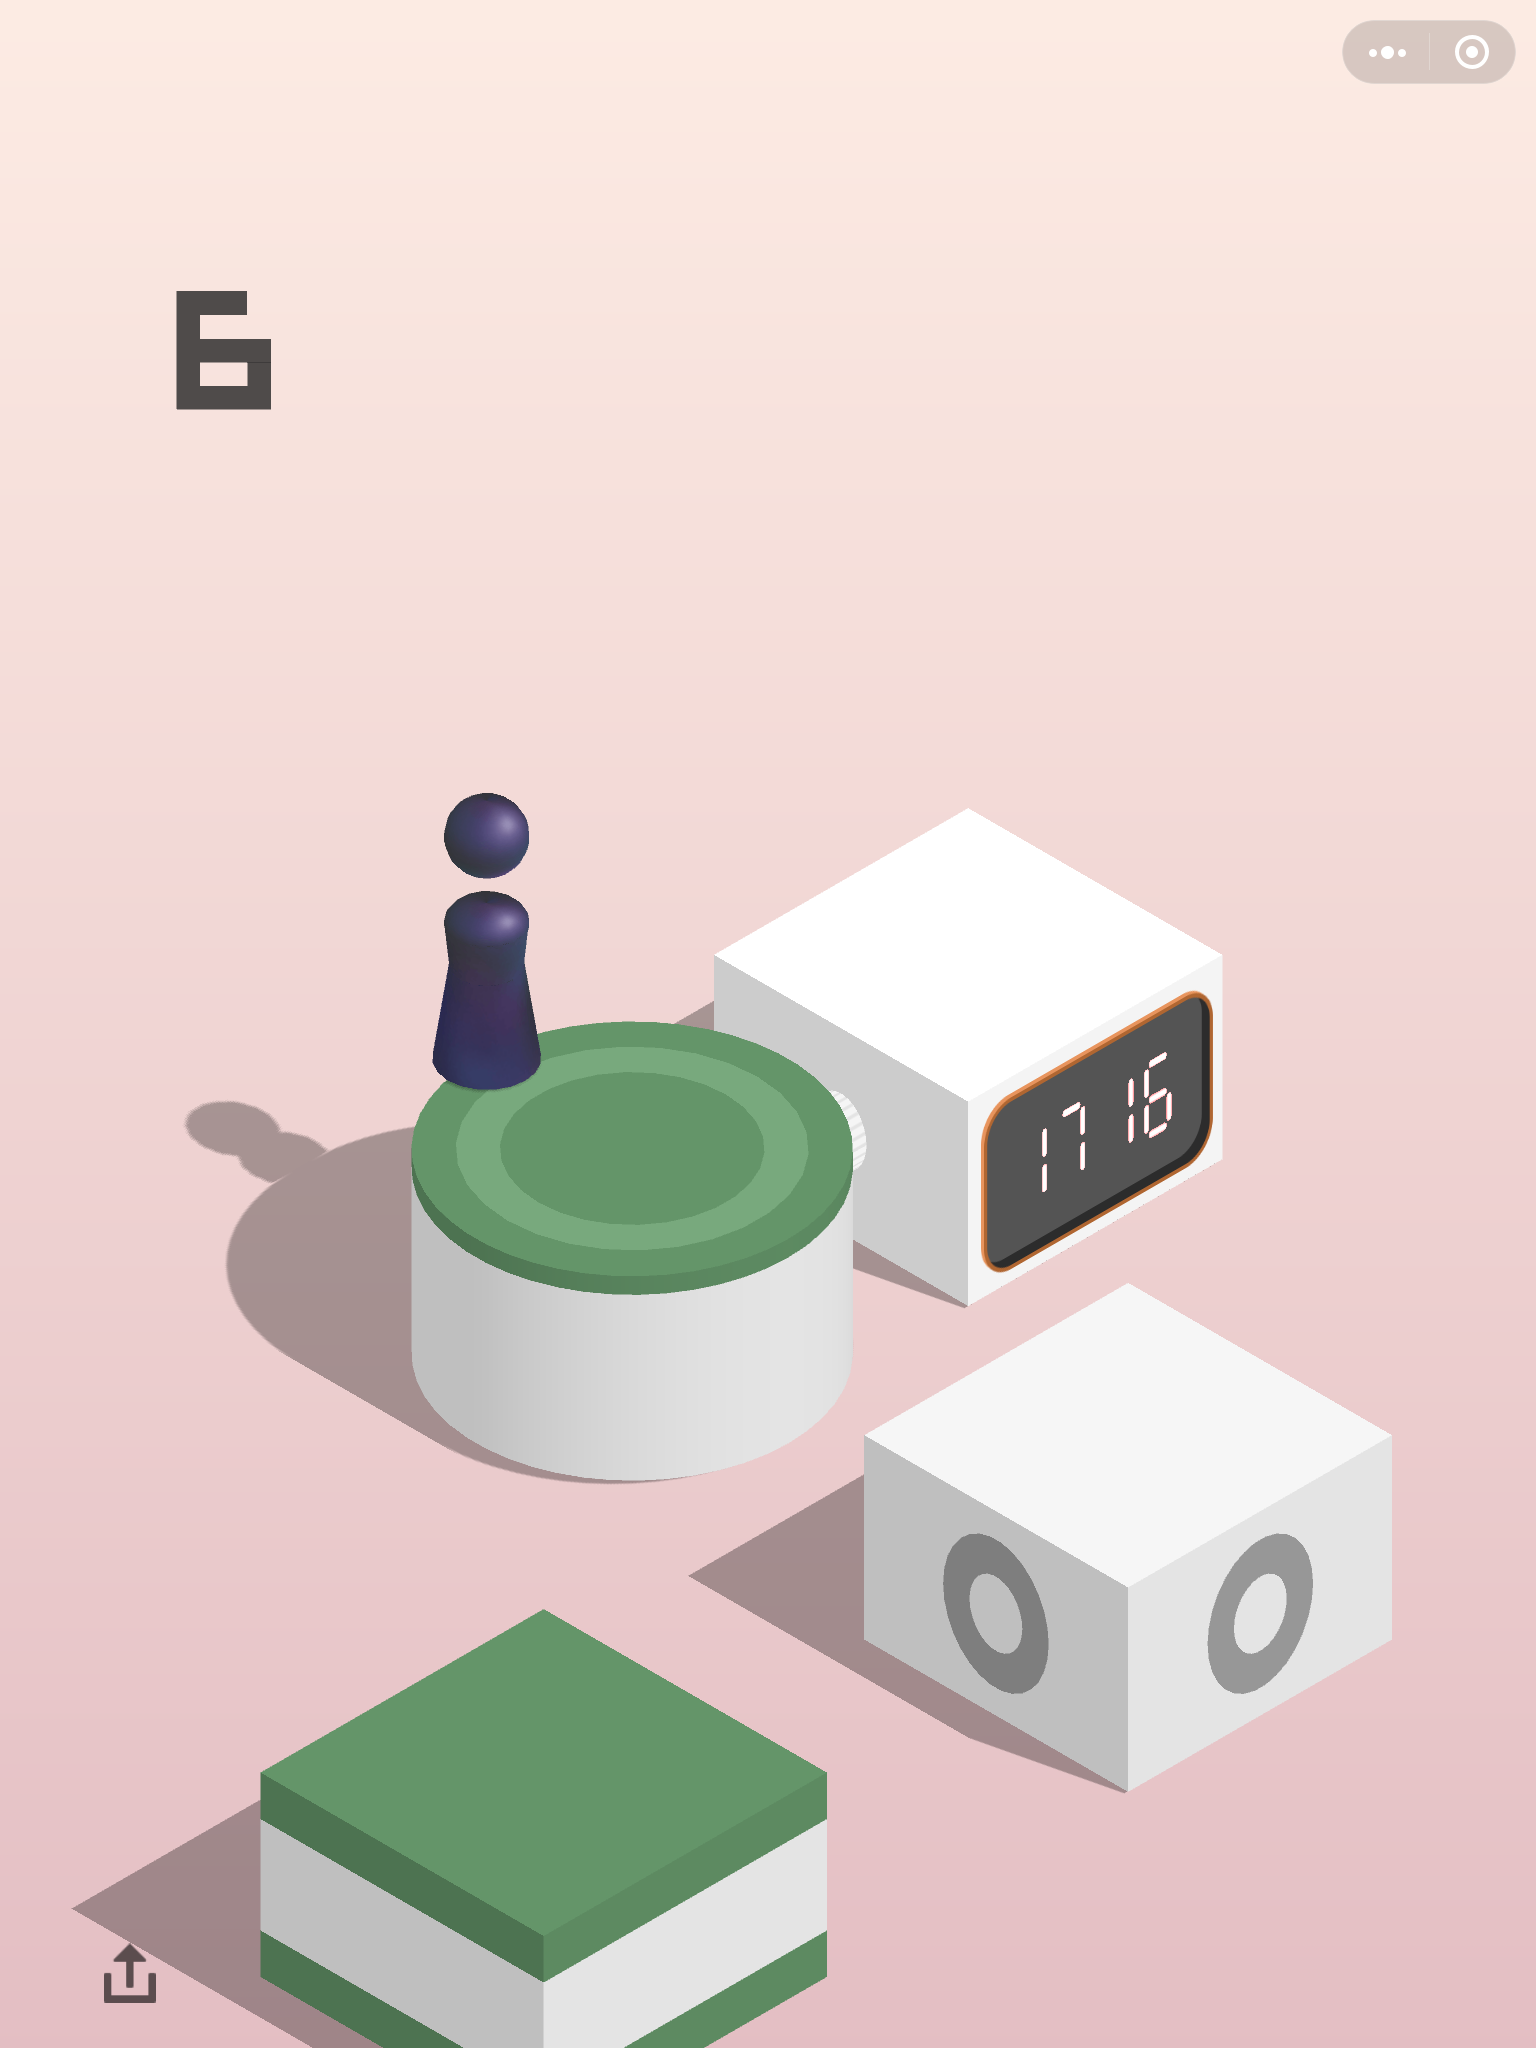c: (395, 1016, 866, 1485)
f: (858, 1282, 1399, 1801), (707, 797, 1229, 1319), (260, 1608, 833, 2048)
r: (426, 785, 545, 1092)
